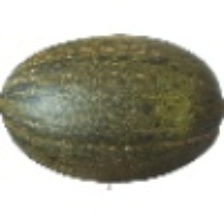honeydew: (41, 56, 207, 194)
